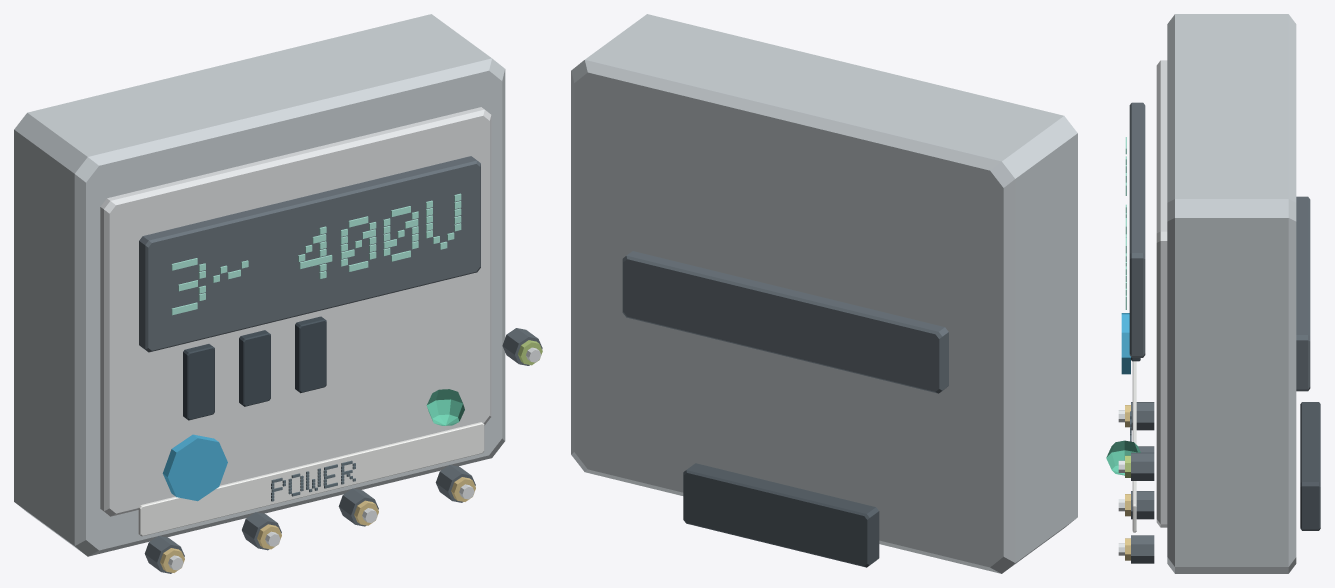
The model's file is threePhaseSupply.glb.
3 views of the same model, side by side, from view 1: azimuth 30°, elevation 25°; view 2: azimuth 150°, elevation 25°; view 3: azimuth 270°, elevation 25° (orthographic). The views are drawn at different scales.
Visible parts, largest first — view 1: threePhaseSupply-board; view 2: threePhaseSupply-board; view 3: threePhaseSupply-board.
Part boxes in pixels (x1,y1,x2,y2): threePhaseSupply-board: (14, 14, 542, 573); threePhaseSupply-board: (571, 14, 1077, 573); threePhaseSupply-board: (1106, 14, 1320, 573).
Bounding box in the file's own units: 3.05 × 2.72 × 1.36.
